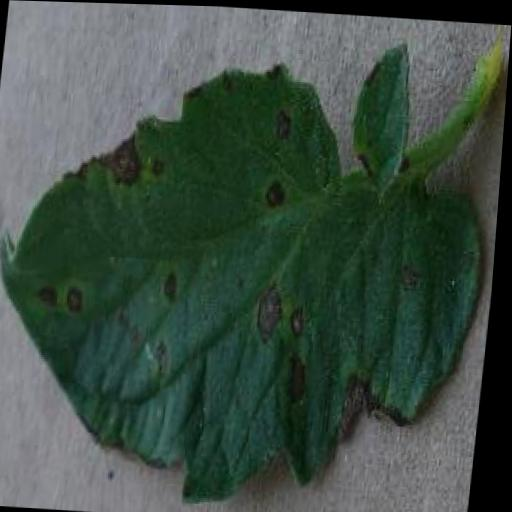Early Blight: (0, 16, 511, 512)
